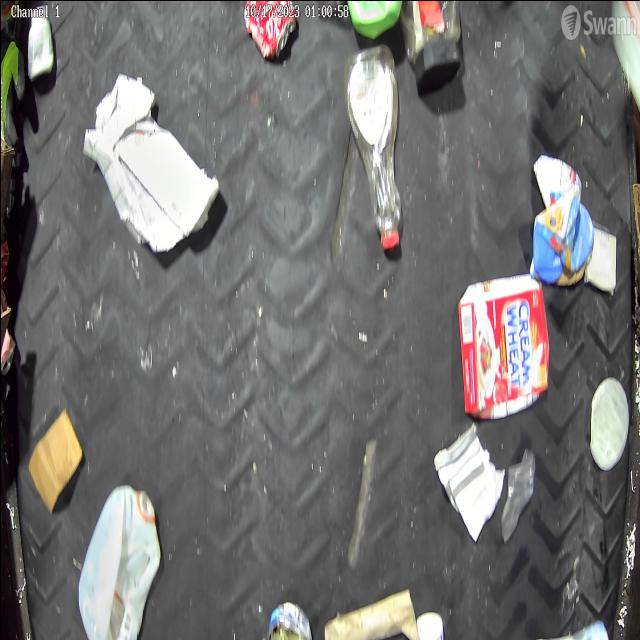can: (244, 0, 297, 58), (266, 597, 311, 640)
milk_jug: (78, 478, 162, 640)
non_white_jug: (532, 154, 592, 280), (344, 0, 402, 38)
plastic_bottle: (347, 51, 405, 252)
